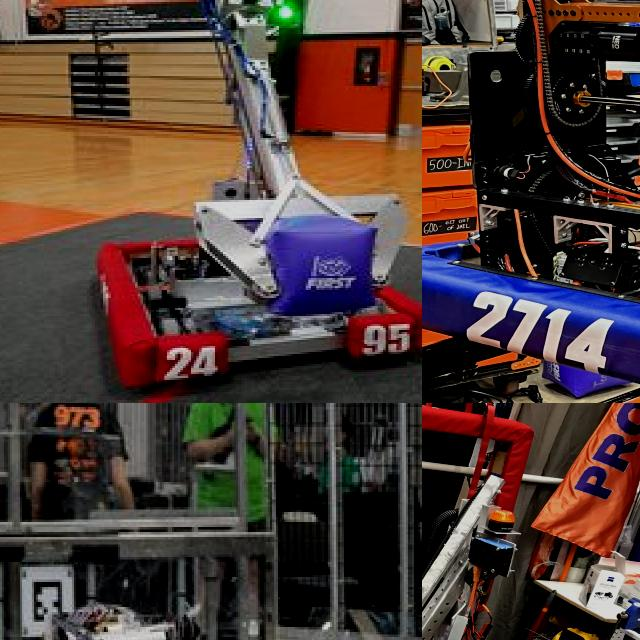FRC-Robots: (60, 0, 422, 390), (422, 0, 640, 381), (0, 509, 422, 640), (422, 403, 603, 640)
